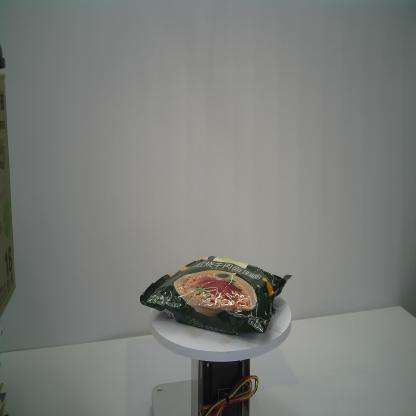Instant Noodles: (140, 255, 292, 336)
